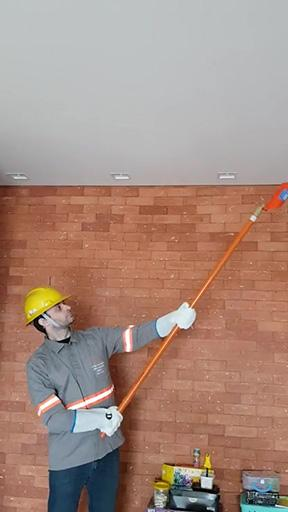Detector_Tensao_Contato: (260, 180, 288, 210)
Vara_Manobra: (99, 204, 264, 436)
